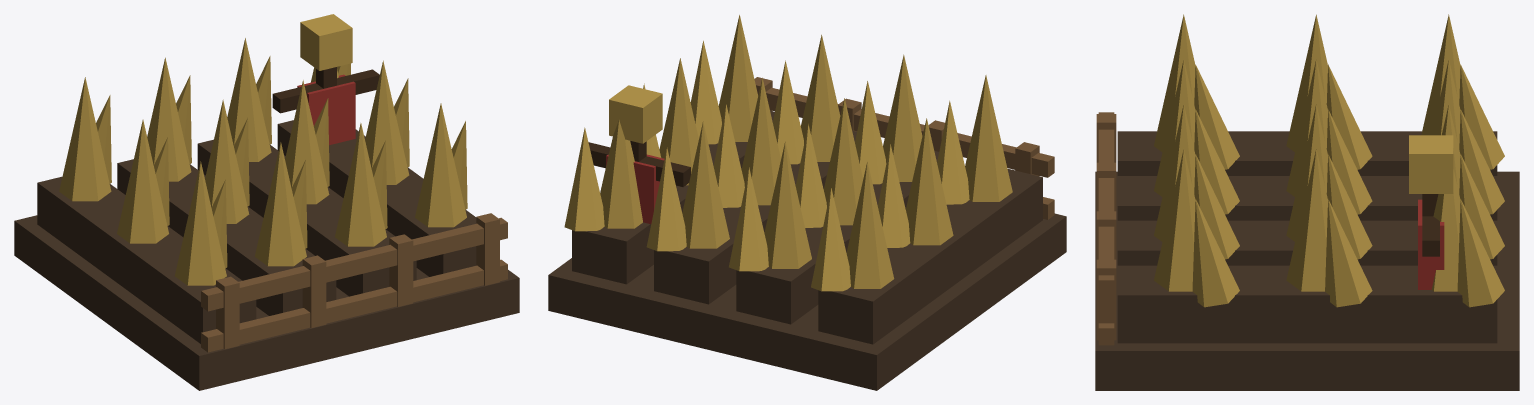
File: farm_lowpoly.glb
3 renders of one model, left to right at view 1: azimuth 30°, elevation 25°; view 2: azimuth 150°, elevation 25°; view 3: azimuth 270°, elevation 25°, orthographic. The views are drawn at different scales.
Visible parts, largest first — view 1: lp_farm; view 2: lp_farm; view 3: lp_farm.
Part boxes in pixels (x1,y1,x2,y2): lp_farm: (14,14,519,390); lp_farm: (548,15,1066,390); lp_farm: (1095,14,1519,390).
Size of the model in its own units: 0.97 by 0.55 by 0.96.
